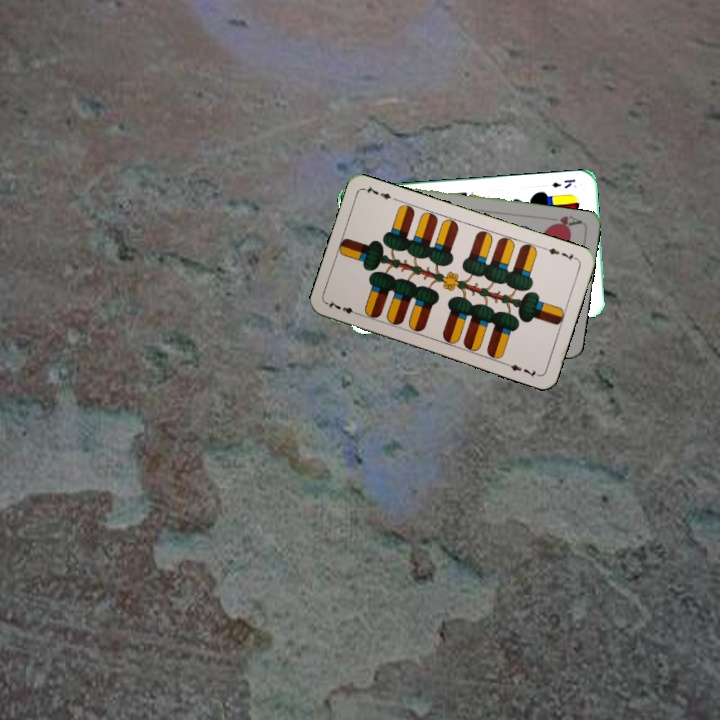E7: (324, 296, 363, 318), (540, 243, 580, 263)
EK: (549, 175, 578, 191)
HA: (544, 212, 585, 232)
